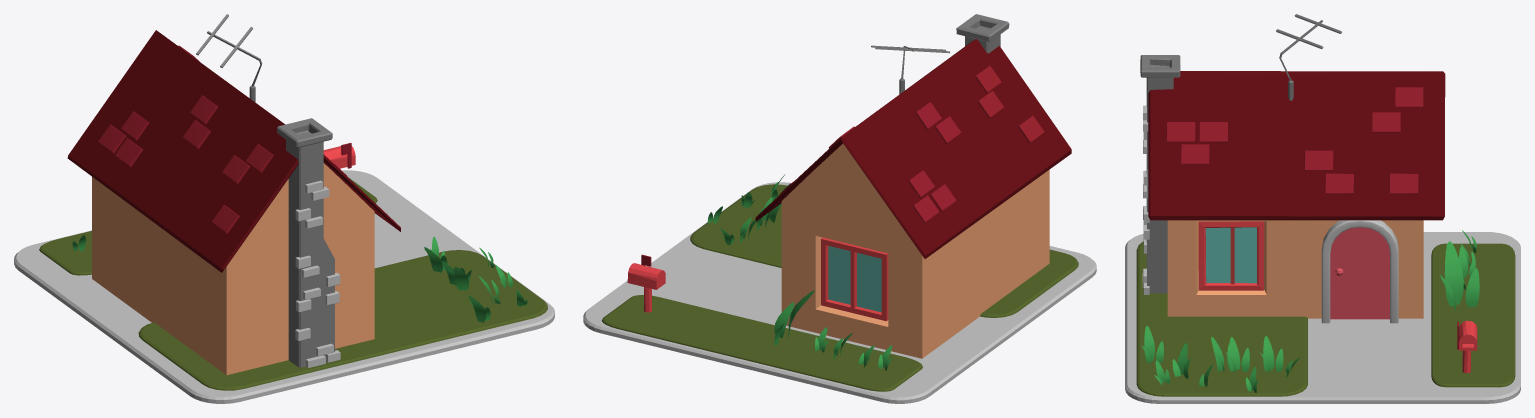
The model's file is TownHouse.fbx.
3 renders of one model, left to right at view 1: azimuth 30°, elevation 25°; view 2: azimuth 150°, elevation 25°; view 3: azimuth 270°, elevation 25°, orthographic. The views are drawn at different scales.
Visible parts, largest first — view 1: TownHouse, MailPost; view 2: TownHouse, MailPost; view 3: TownHouse, Door, MailPost.
Part boxes in pixels (box(x1,y1,x2,y2)): TownHouse: box(14, 14, 554, 403); MailPost: box(323, 143, 355, 168); TownHouse: box(583, 14, 1096, 403); MailPost: box(627, 254, 665, 312); TownHouse: box(1125, 14, 1520, 403); Door: box(1330, 227, 1389, 319); MailPost: box(1457, 320, 1477, 373).
Bounding box in the file's own units: 7.19 × 5.35 × 7.19.
